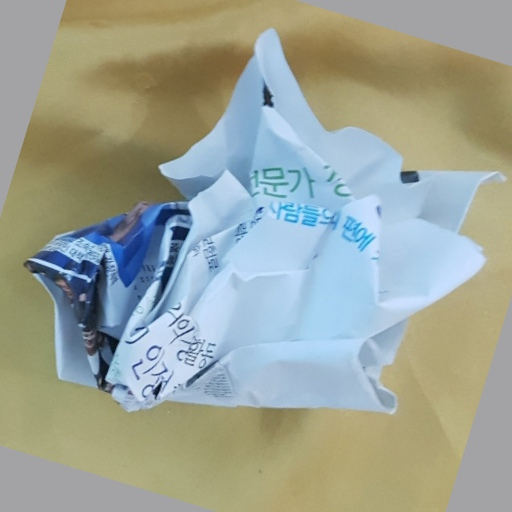Paper_3: (26, 28, 502, 450)
